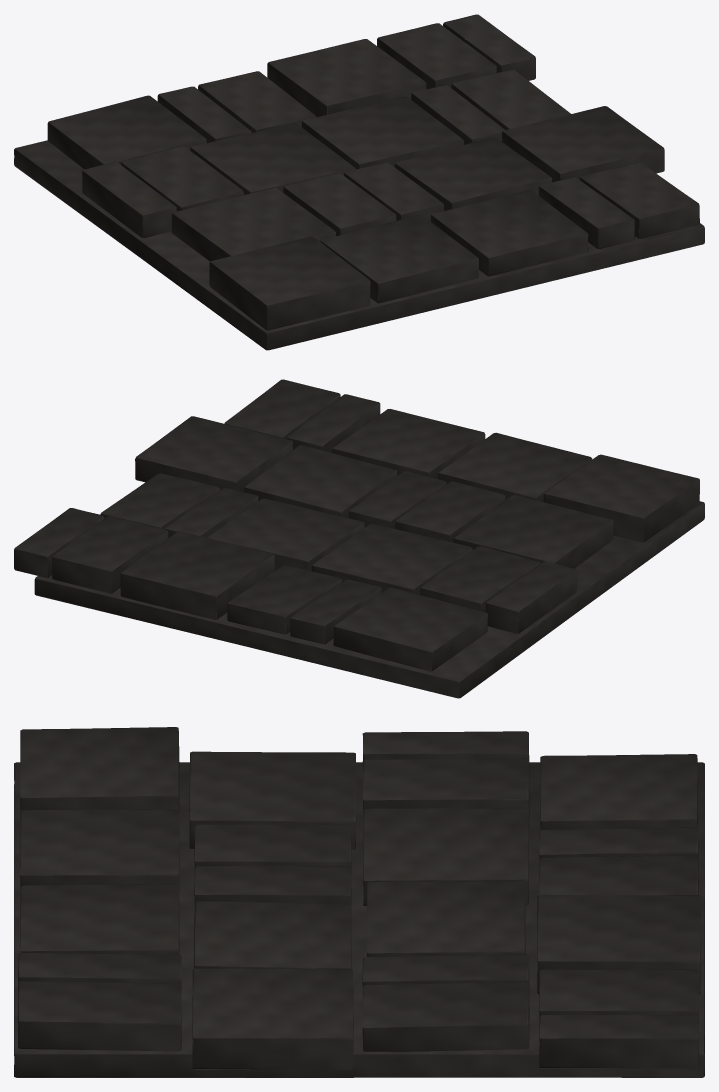
The model's file is Flagstones_CrackedTile_LOD1.glb.
3 renders of one model, top to bottom at view 1: azimuth 30°, elevation 25°; view 2: azimuth 150°, elevation 25°; view 3: azimuth 270°, elevation 25°, orthographic. The views are drawn at different scales.
Visible parts, largest first — view 1: Flagstones_CrackedTile_LOD1; view 2: Flagstones_CrackedTile_LOD1; view 3: Flagstones_CrackedTile_LOD1.
Boxes of the visible parts, <box> form: Flagstones_CrackedTile_LOD1: <box>14,14,704,350</box>; Flagstones_CrackedTile_LOD1: <box>14,379,704,698</box>; Flagstones_CrackedTile_LOD1: <box>14,727,704,1077</box>.
Size of the model in its own units: 2.64 by 0.244 by 2.5.
Materials: 1 (1 with a texture image).
